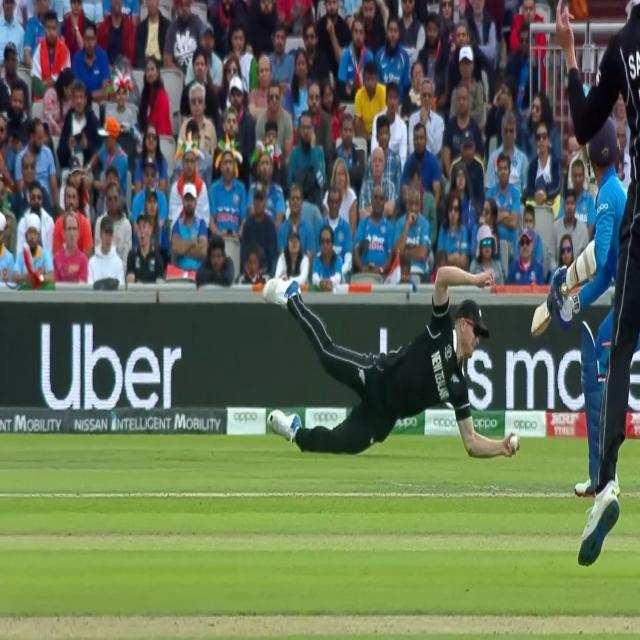ball: (506, 432, 524, 455)
